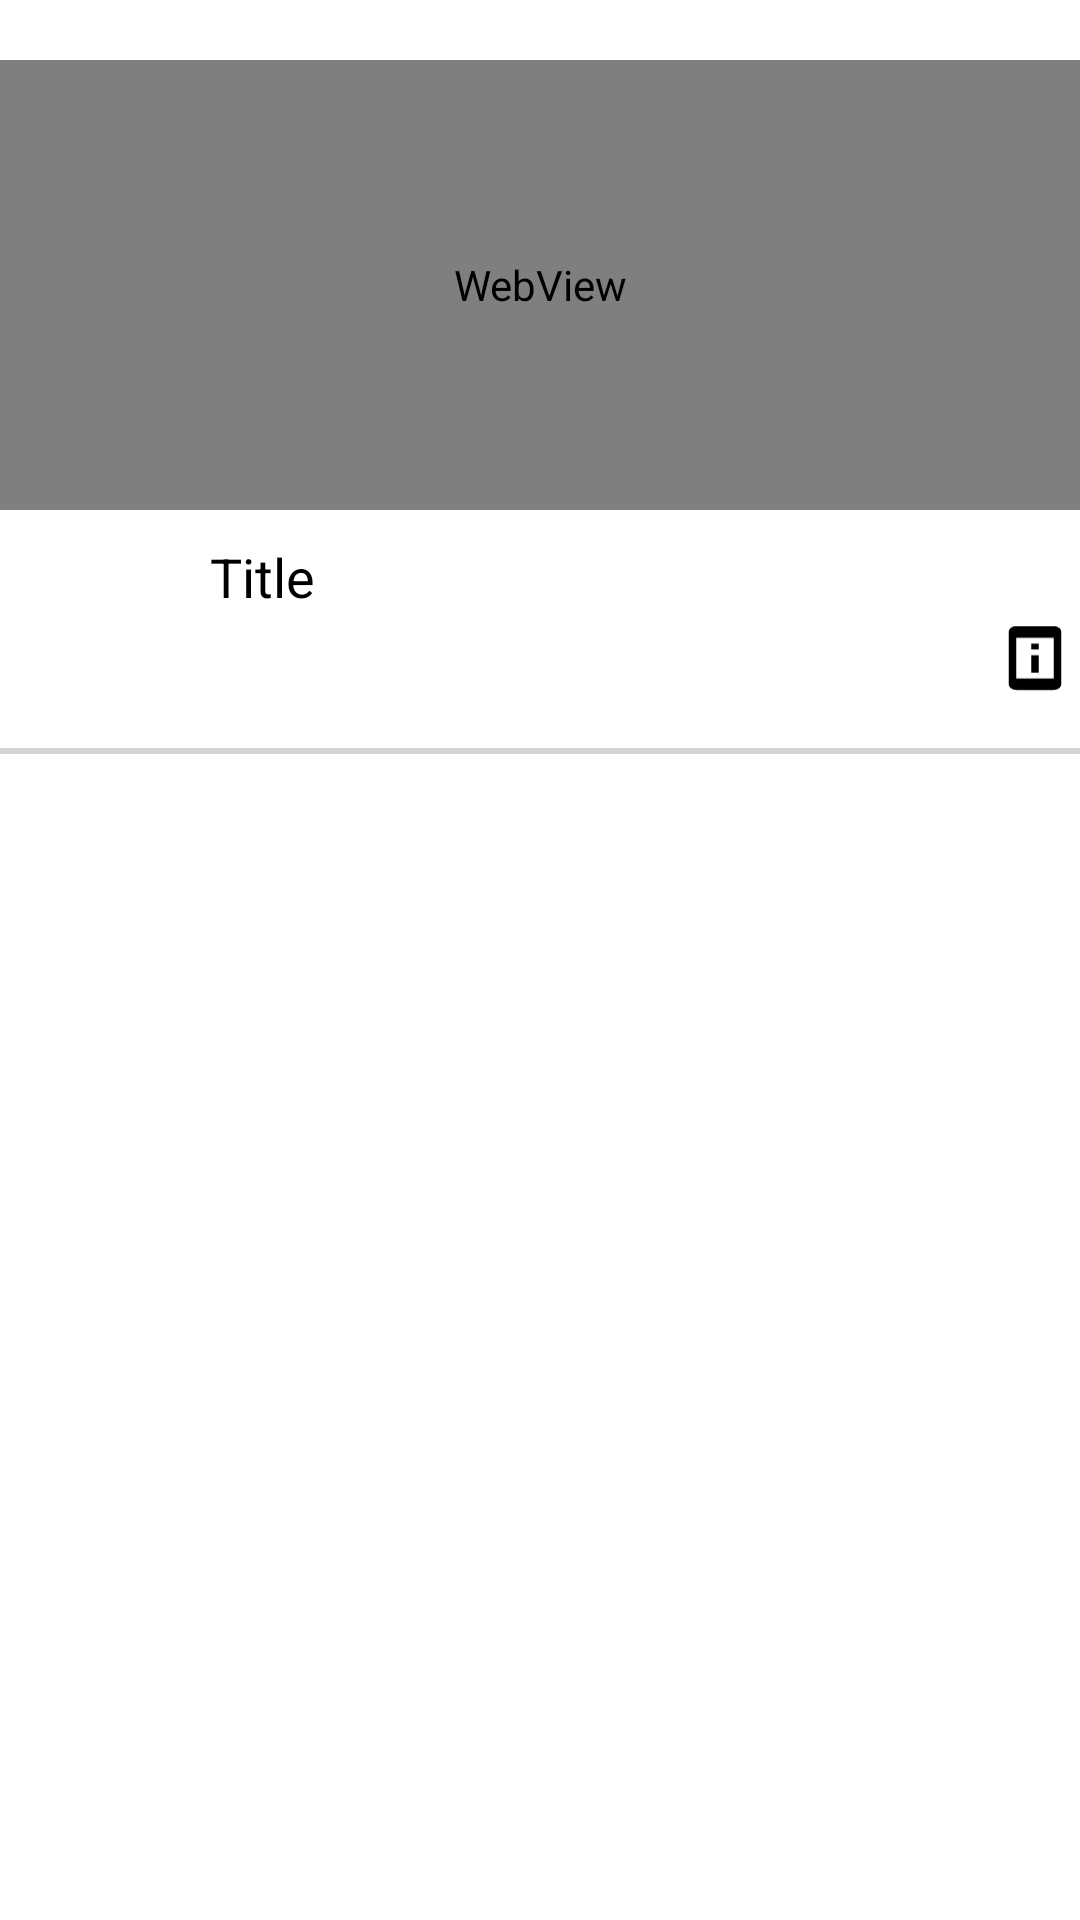

Icon bounding boxes for this 1080px x 1920px phone screenshot, format {"x1": x1, "y1": y1, "x2": x2, "y2": y2}:
information: {"x1": 1008, "y1": 626, "x2": 1062, "y2": 691}
